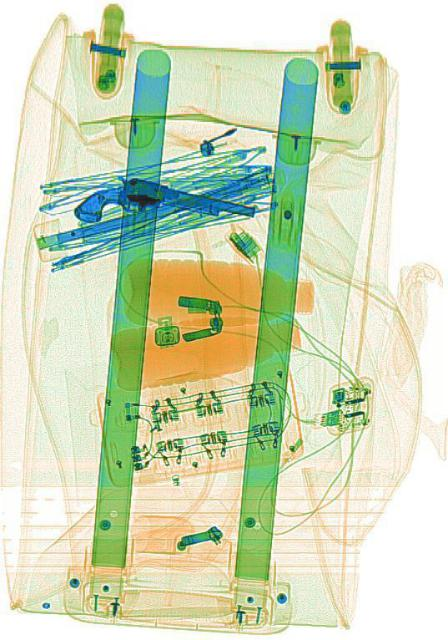Gun: (70, 164, 252, 256)
